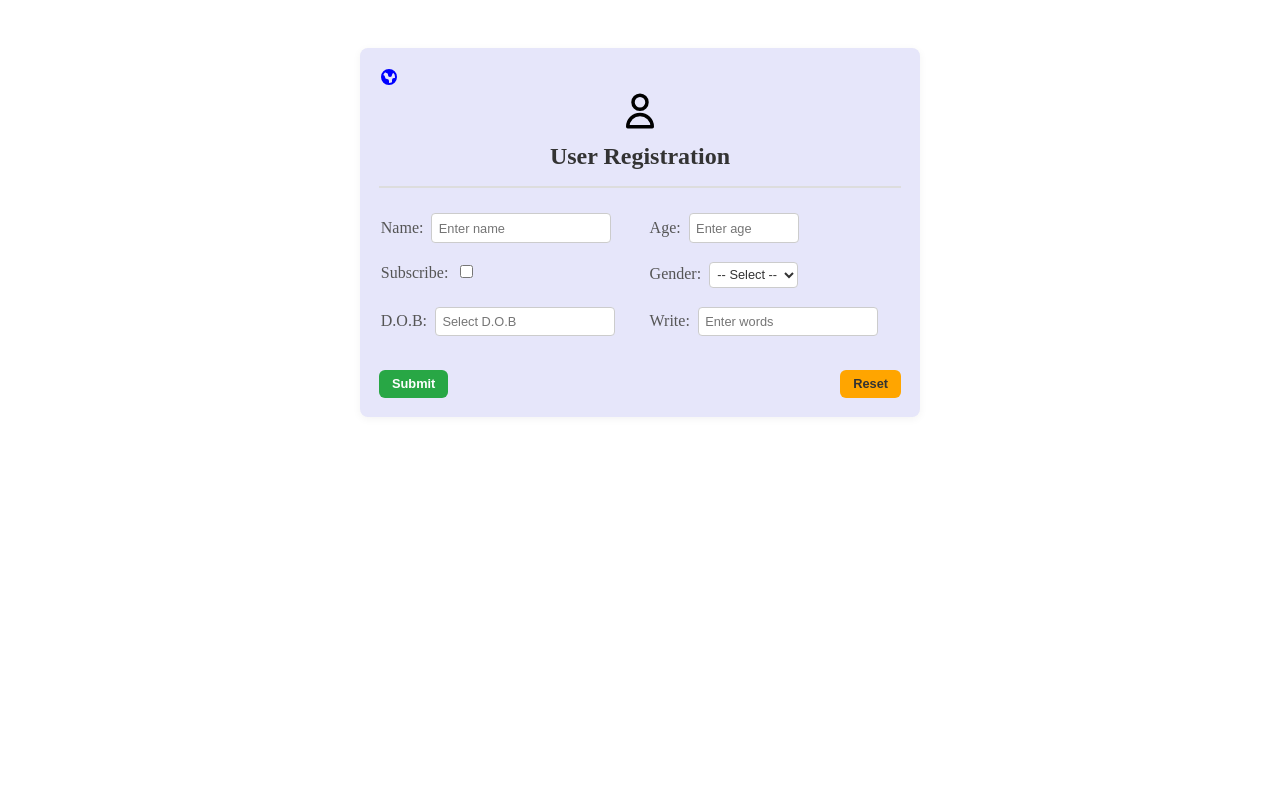
Test case: FormRenderer Component › renders the DateField and allows date selection
expect the text "D.O.B" is shown: met, box x1=381 y1=312 x2=427 y2=329
Click the field labelled "D.O.B" at (525, 322), box x1=435 y1=307 x2=615 y2=336
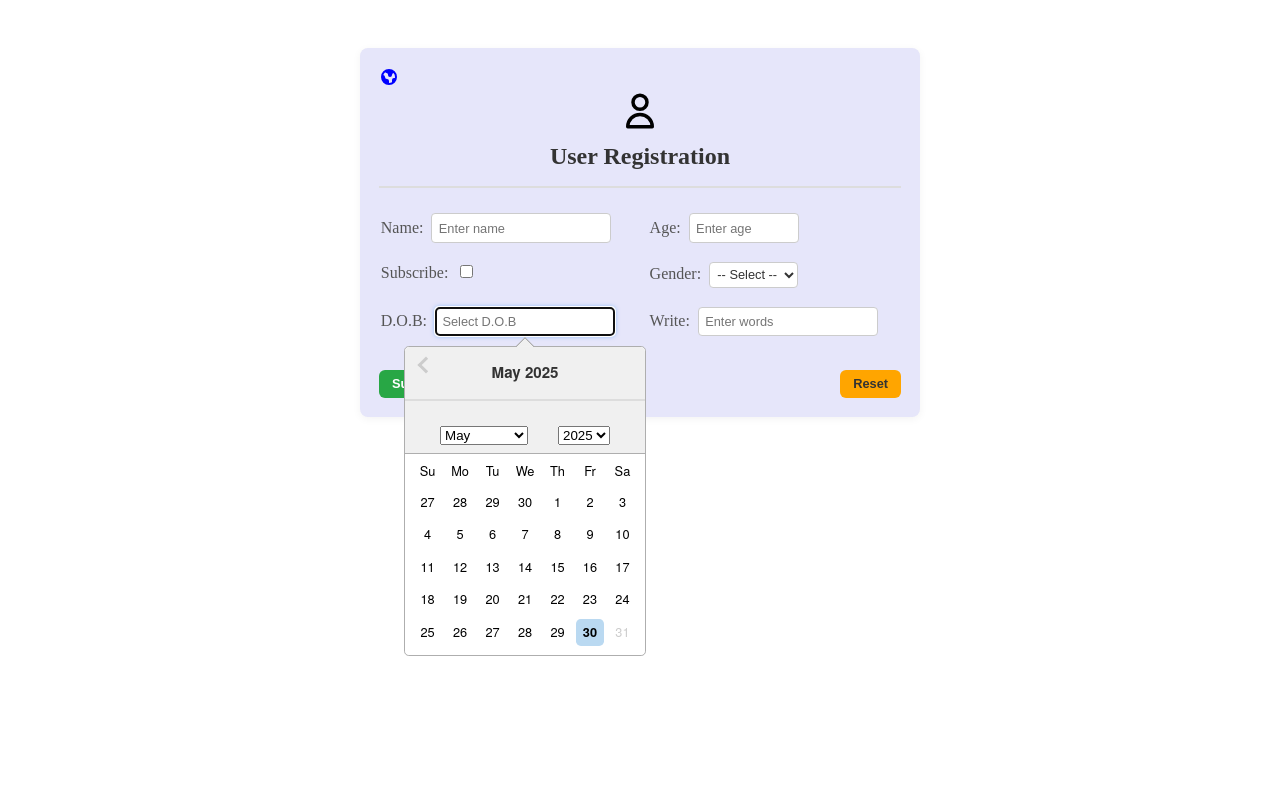
expect the dialog is shown: met, box x1=404 y1=346 x2=646 y2=656
